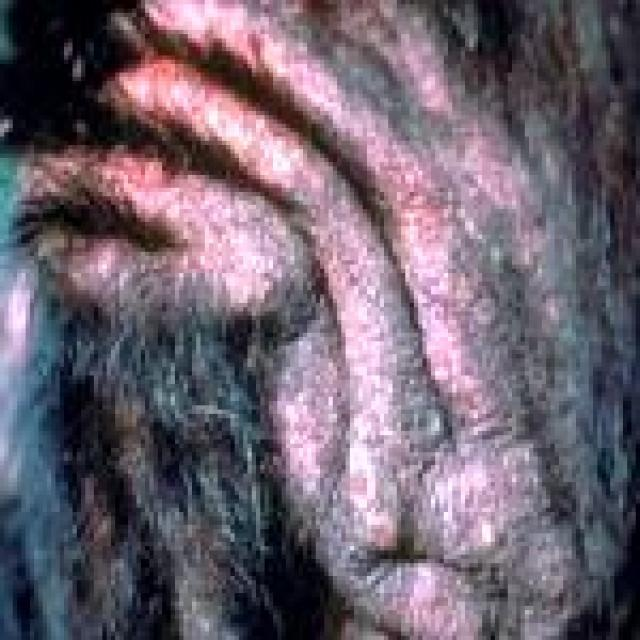fungal infection: (333, 431, 640, 638), (115, 0, 342, 180), (49, 158, 307, 302), (404, 254, 510, 432), (321, 239, 414, 439), (373, 0, 452, 131), (454, 118, 534, 232), (278, 354, 342, 496), (506, 222, 571, 330), (381, 164, 449, 246)
